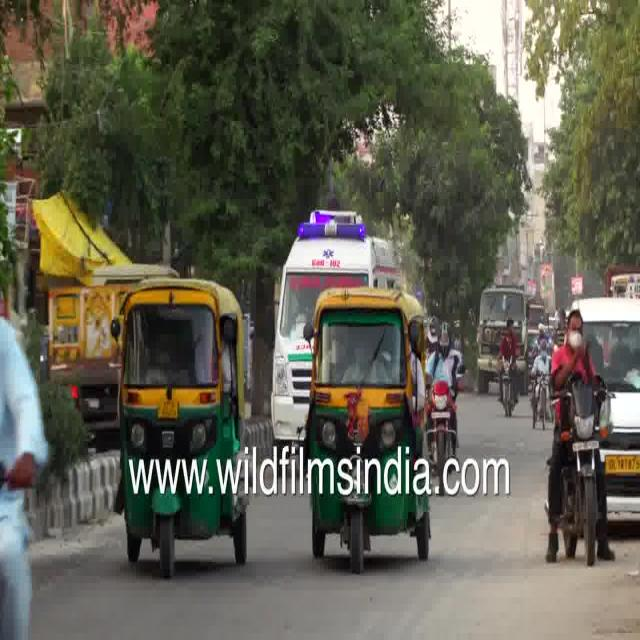ambulance: (258, 197, 399, 291), (262, 194, 304, 453)
